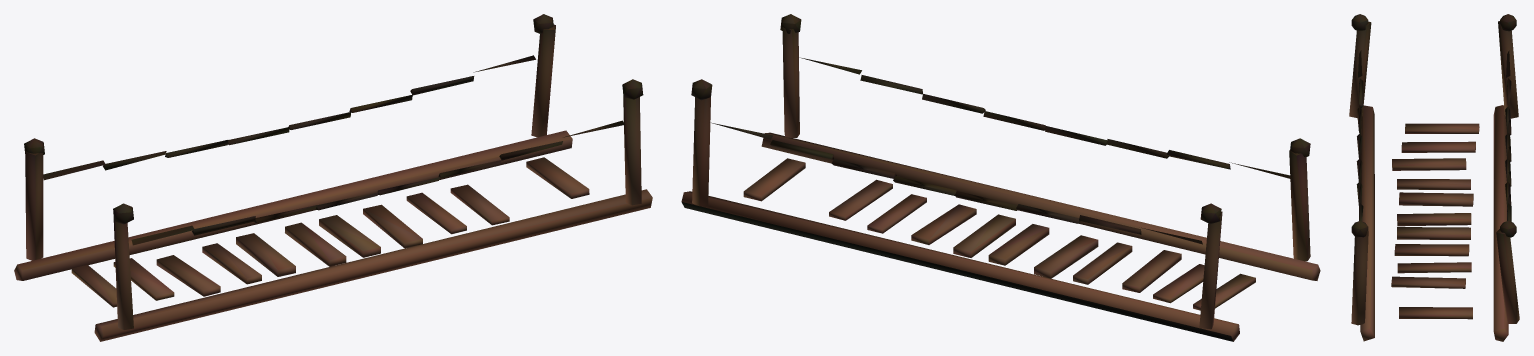
The model's file is bridge_bk_foret_broceliande_0002.glb.
The picture shows the model from 3 angles, left to right: view 1: azimuth 30°, elevation 25°; view 2: azimuth 150°, elevation 25°; view 3: azimuth 270°, elevation 25°; orthographic projection. The views are drawn at different scales.
Parts seen in each view (by area): view 1: bridge_bk_002; view 2: bridge_bk_002; view 3: bridge_bk_002.
Boxes of the visible parts, <box> form: bridge_bk_002: <box>14,14,652,341</box>; bridge_bk_002: <box>681,14,1320,341</box>; bridge_bk_002: <box>1349,14,1519,341</box>.
Bounding box in the file's own units: 2.4 × 0.5677 × 0.7771.
